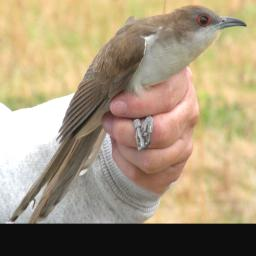Cuckoo: (8, 4, 248, 223)
